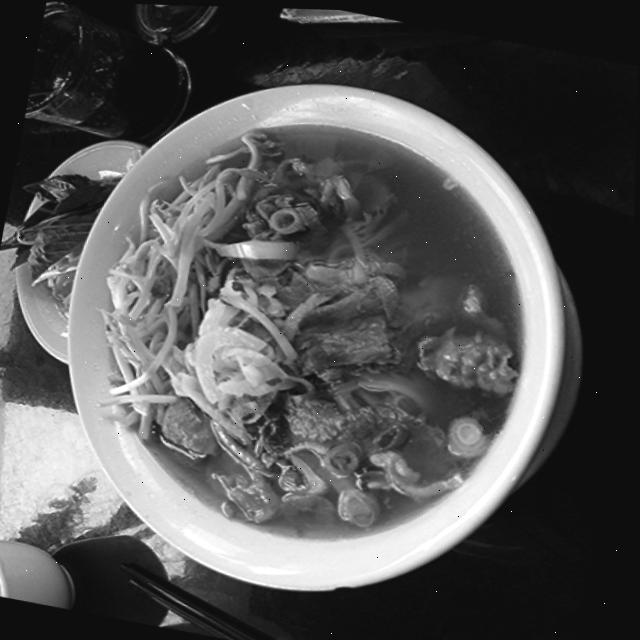面条主食: (35, 62, 598, 609)
